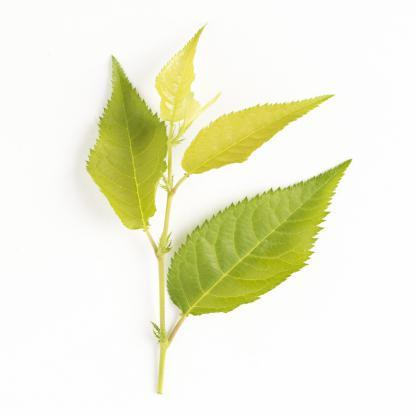Cherry leaf: (167, 172, 351, 326), (78, 52, 172, 268), (179, 86, 335, 174)
